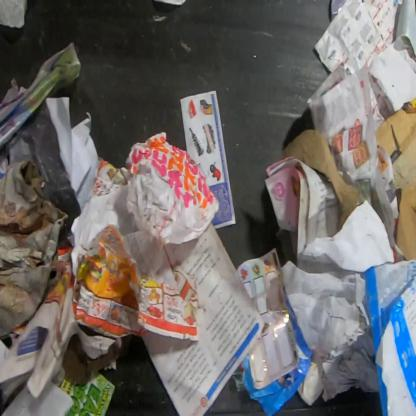cardboard: (0, 158, 69, 340), (240, 298, 314, 415), (283, 128, 362, 234), (374, 93, 415, 261)
soft_plastic: (236, 246, 300, 389), (363, 258, 415, 415)
